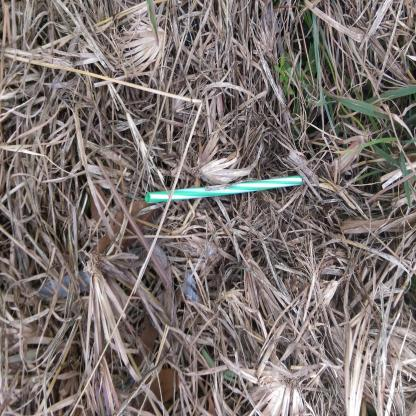trash: (140, 165, 313, 224)
